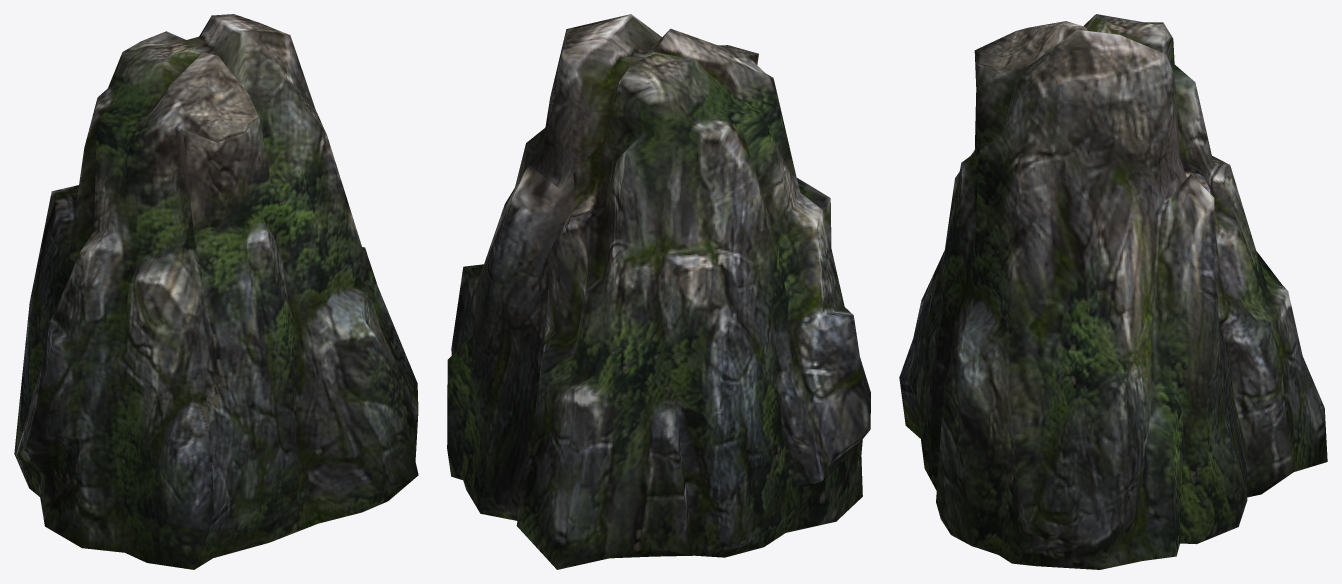
File: qys_shanshi01_LOD2.FBX
3 renders of one model, left to right at view 1: azimuth 30°, elevation 25°; view 2: azimuth 150°, elevation 25°; view 3: azimuth 270°, elevation 25°, orthographic. The views are drawn at different scales.
Visible parts, largest first — view 1: qys_shanshi01_LOD2; view 2: qys_shanshi01_LOD2; view 3: qys_shanshi01_LOD2.
Part boxes in pixels (x1,y1,x2,y2): qys_shanshi01_LOD2: (14,14,418,569); qys_shanshi01_LOD2: (447,14,870,569); qys_shanshi01_LOD2: (899,14,1327,569).
Size of the model in its own units: 4808 by 5159 by 4330.
